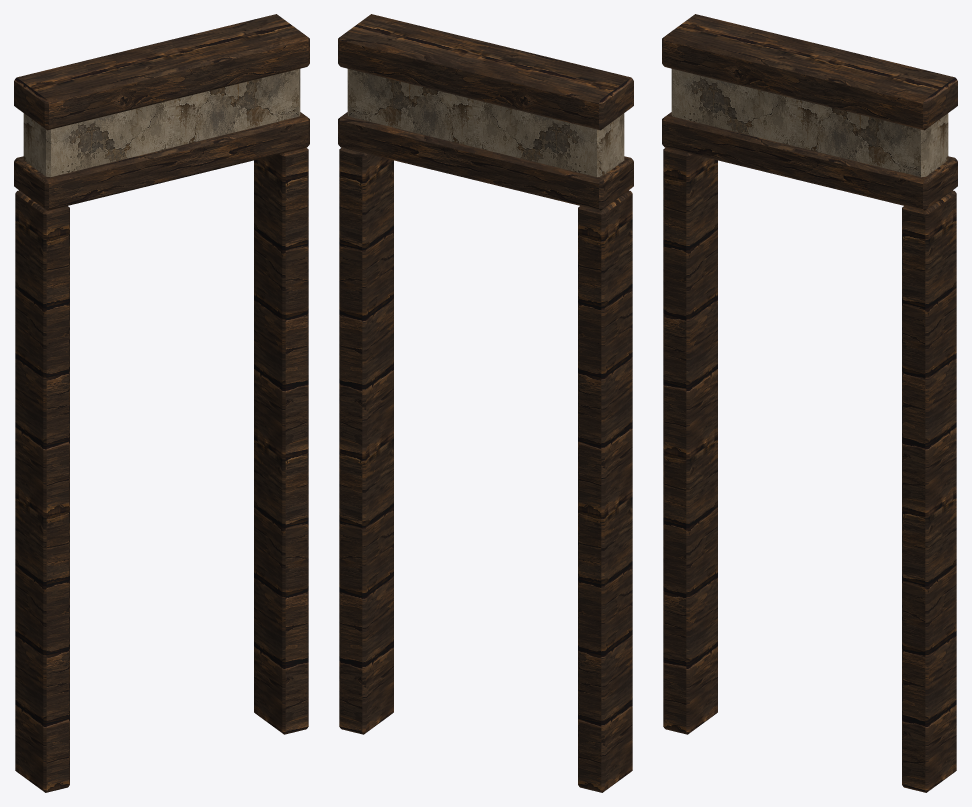
The model's file is doorframe_plaster.glb.
3 views of the same model, side by side, from view 1: azimuth 30°, elevation 25°; view 2: azimuth 150°, elevation 25°; view 3: azimuth 330°, elevation 25° (orthographic).
Parts seen in each view (by area): view 1: doorframe_plaster; view 2: doorframe_plaster; view 3: doorframe_plaster.
Part boxes in pixels (x1,y1,x2,y2): doorframe_plaster: (14,14,309,792); doorframe_plaster: (338,14,633,792); doorframe_plaster: (662,14,957,792).
Bounding box in the file's own units: 1 × 2.5 × 0.22.
2 materials, 2 textured.
